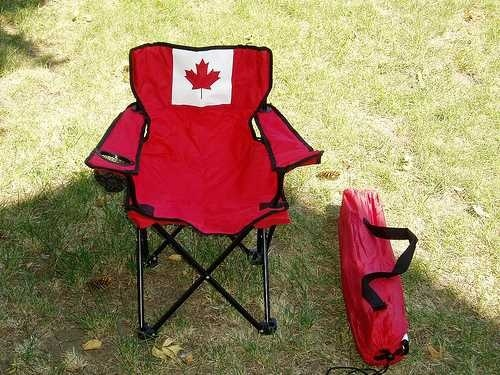obstacle: (86, 43, 322, 336)
